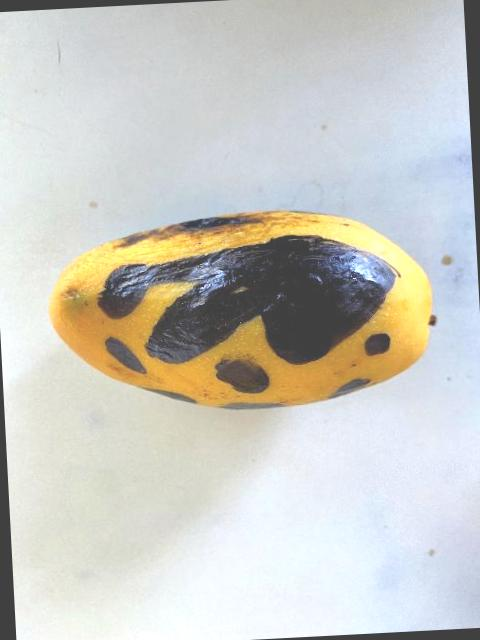Mango Overripe: (15, 184, 462, 436)
